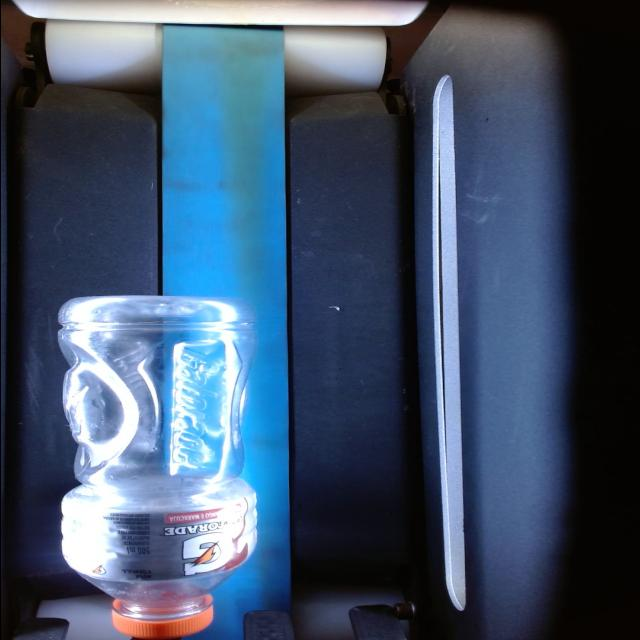bottom: (58, 296, 255, 486)
label: (60, 480, 255, 581)
neck: (83, 571, 231, 640)
